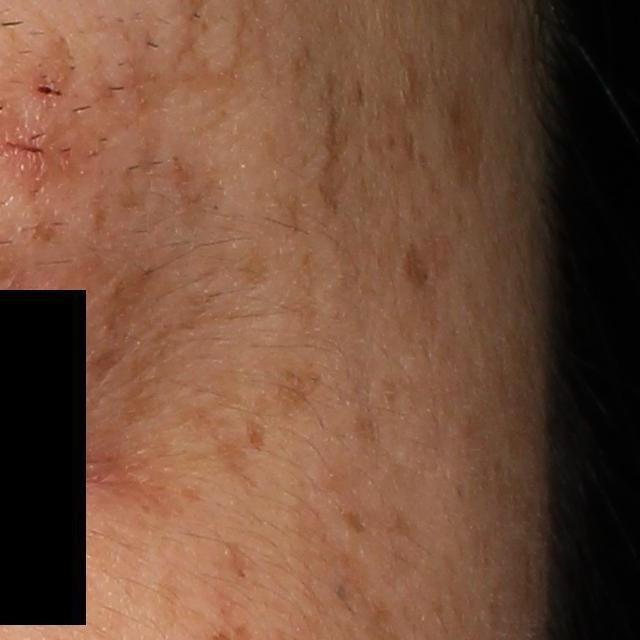melasma: (279, 366, 323, 416), (87, 337, 132, 385), (214, 439, 254, 493), (217, 539, 261, 581), (381, 506, 422, 550), (237, 413, 273, 456), (238, 251, 273, 288), (341, 508, 370, 541), (180, 482, 202, 501)
